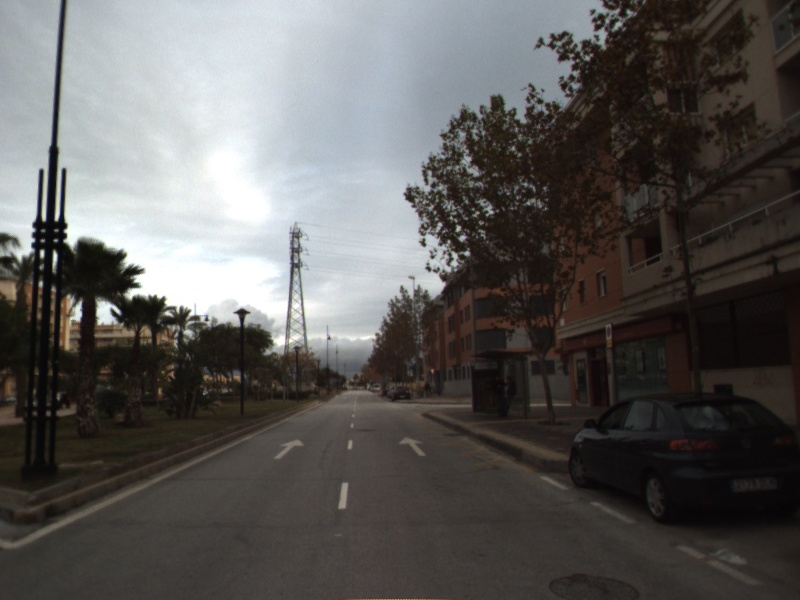STRAIGHT: (272, 437, 306, 461), (397, 435, 428, 458)
